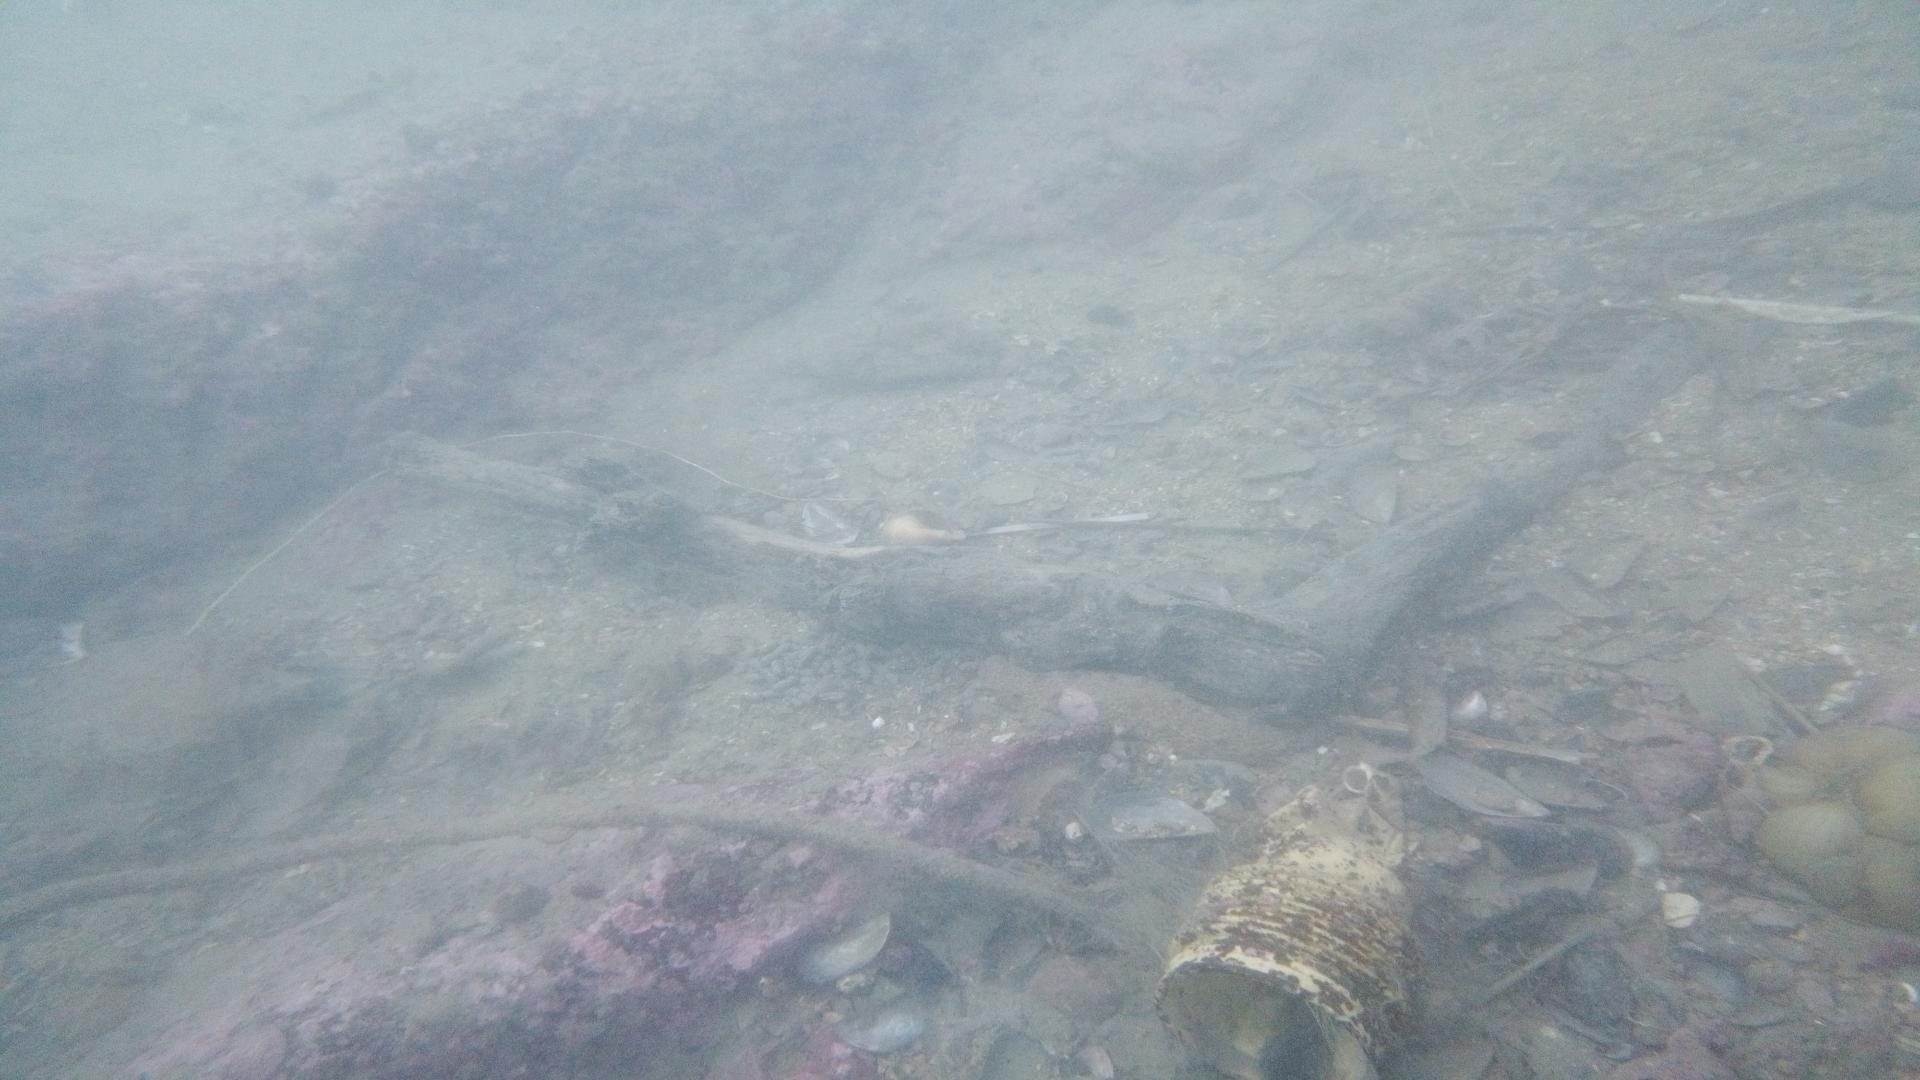rope: (0, 799, 1096, 938)
wood: (386, 319, 1709, 703)
